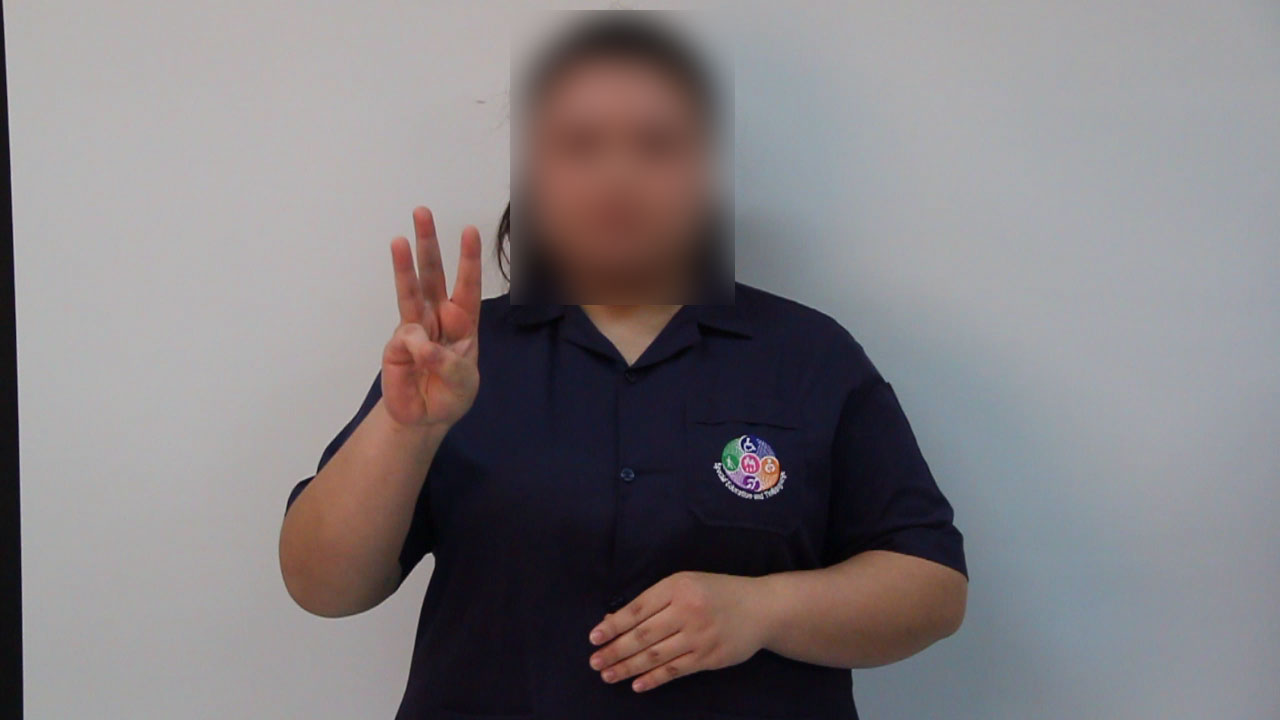wor: (366, 197, 492, 429)
